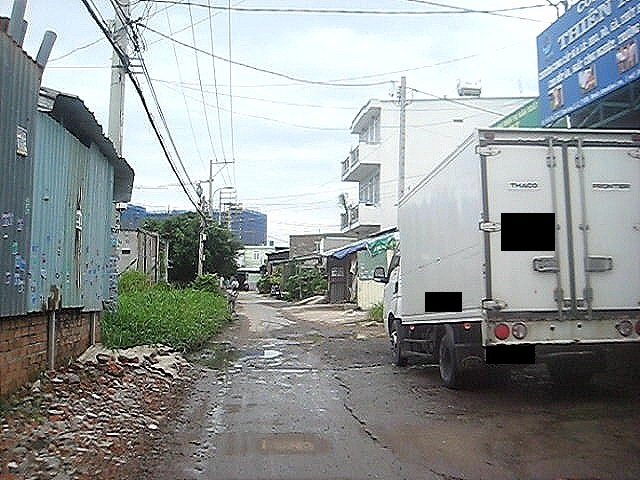hole: (192, 345, 287, 373), (265, 329, 345, 345)
